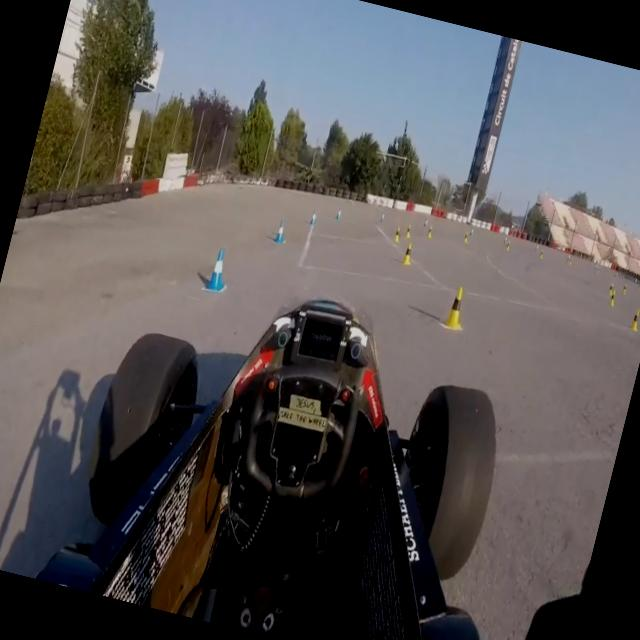blue_cone: (198, 245, 234, 297), (272, 218, 290, 250), (307, 206, 319, 230), (378, 208, 388, 224), (334, 206, 343, 222), (502, 234, 508, 244), (469, 226, 474, 236), (534, 242, 539, 252), (423, 218, 428, 227)
yellow_cone: (438, 279, 472, 336), (399, 238, 416, 271), (627, 304, 640, 333), (606, 288, 618, 308), (402, 222, 414, 240), (392, 224, 402, 244), (425, 222, 436, 240), (605, 279, 615, 296), (620, 280, 628, 294), (462, 232, 470, 244), (538, 250, 544, 260), (505, 240, 510, 251)
